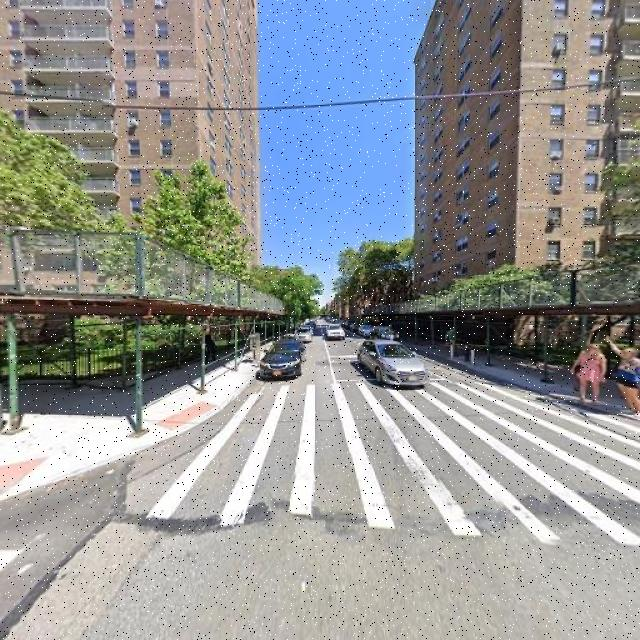Building: (1, 1, 259, 349), (429, 1, 640, 357)
